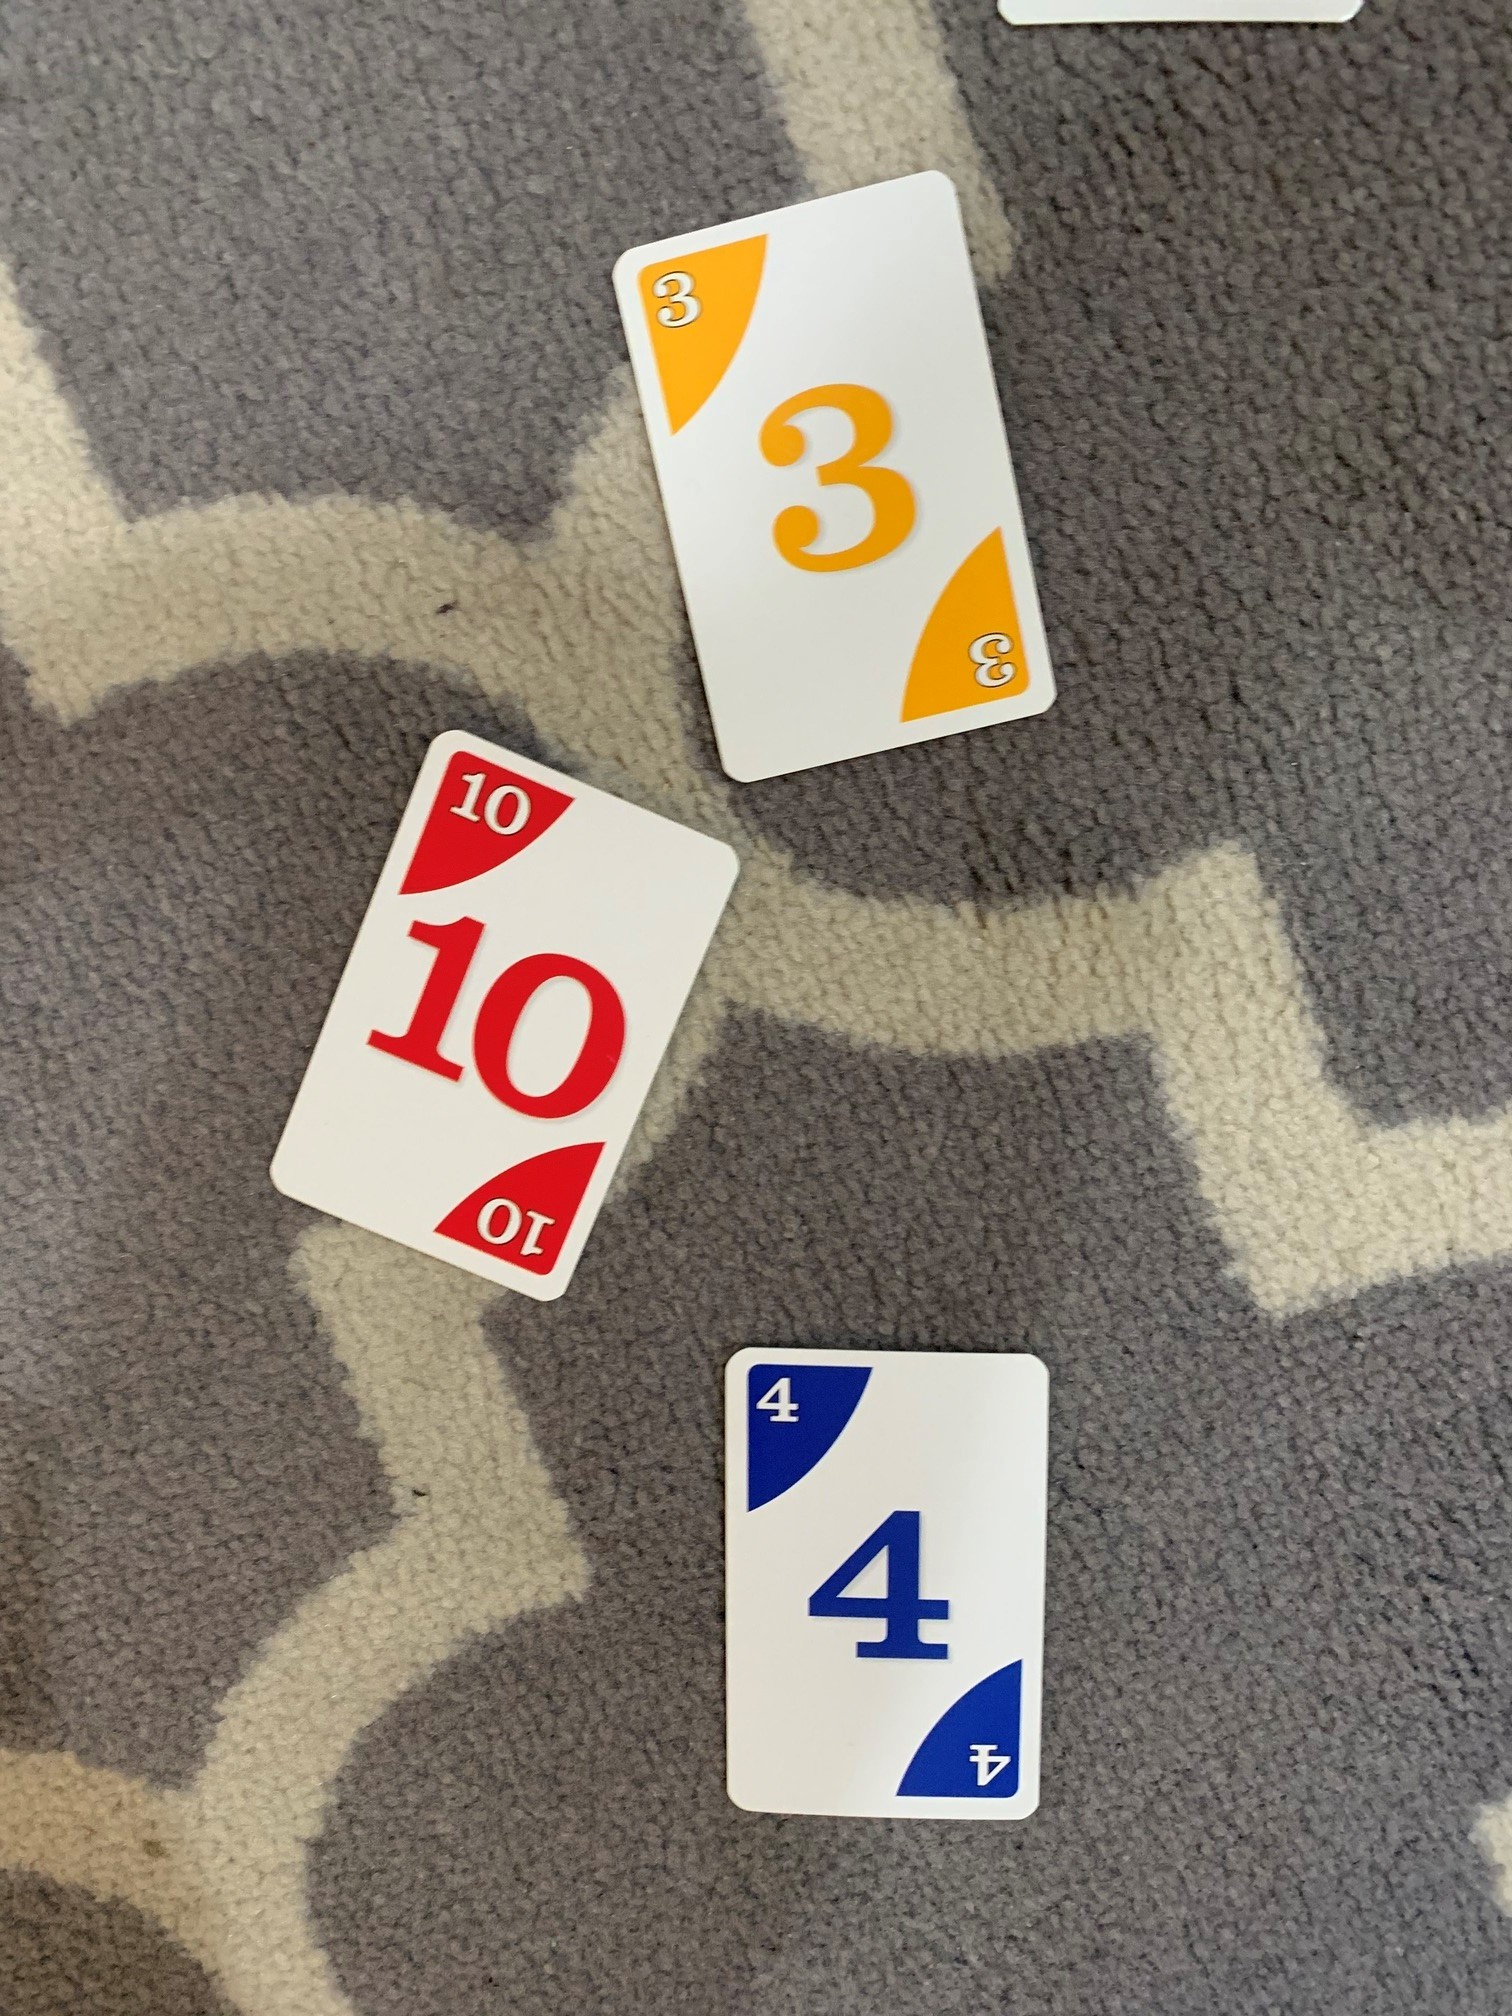four: (713, 1338, 1067, 1829)
ten: (260, 722, 750, 1310)
three: (611, 170, 1063, 795)
